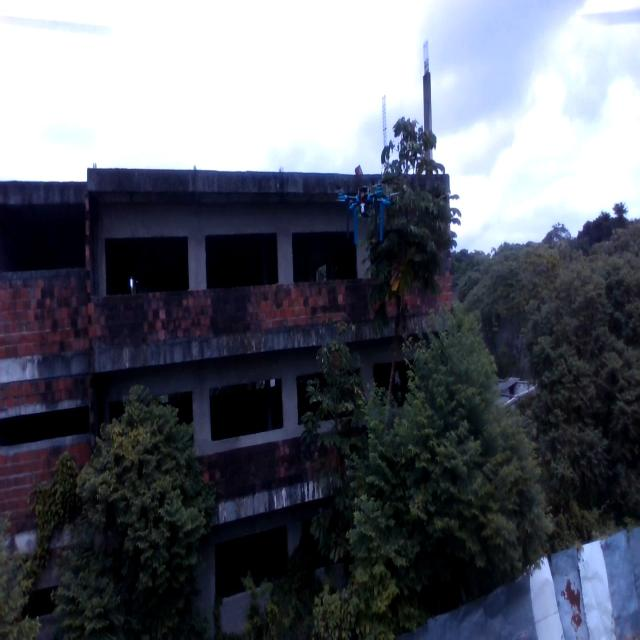-uav-: (330, 170, 394, 249)
